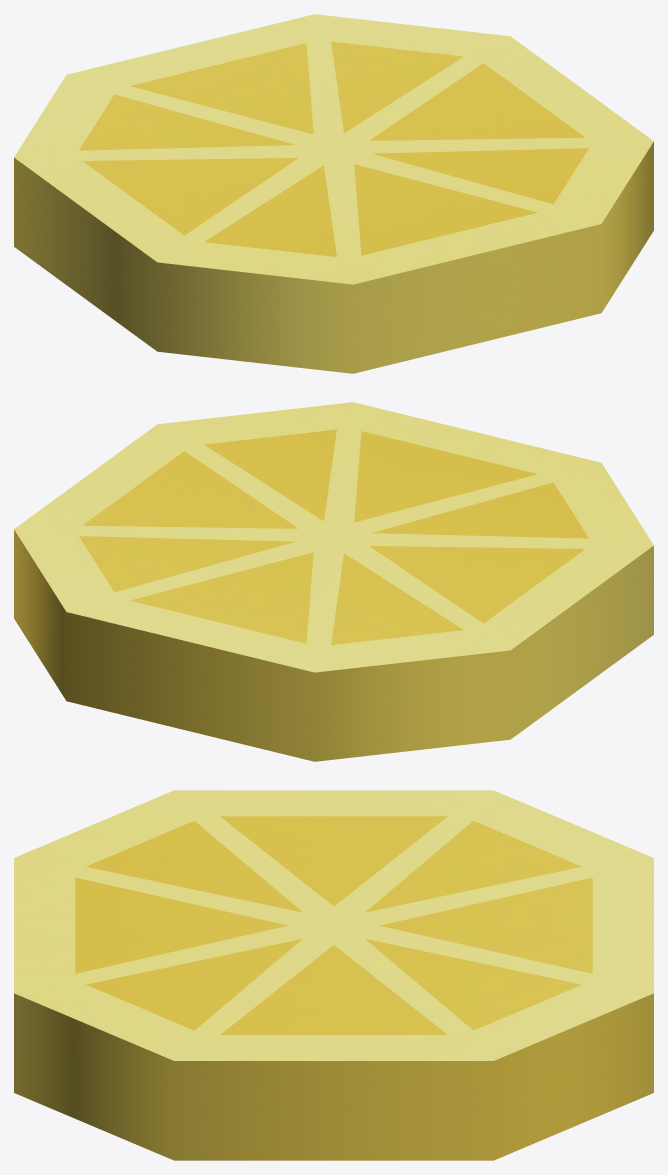
Rendered from lemon_slice.fbx.
3 views of the same model, one above another, from view 1: azimuth 30°, elevation 25°; view 2: azimuth 150°, elevation 25°; view 3: azimuth 270°, elevation 25° (orthographic). The views are drawn at different scales.
Parts seen in each view (by area): view 1: lemon_slice; view 2: lemon_slice; view 3: lemon_slice.
Boxes of the visible parts, x1,y1,x2,y2 form: lemon_slice: (14, 14, 653, 373); lemon_slice: (14, 402, 653, 761); lemon_slice: (14, 790, 653, 1160).
Bounding box in the file's own units: 15.62 × 2.68 × 15.62.
